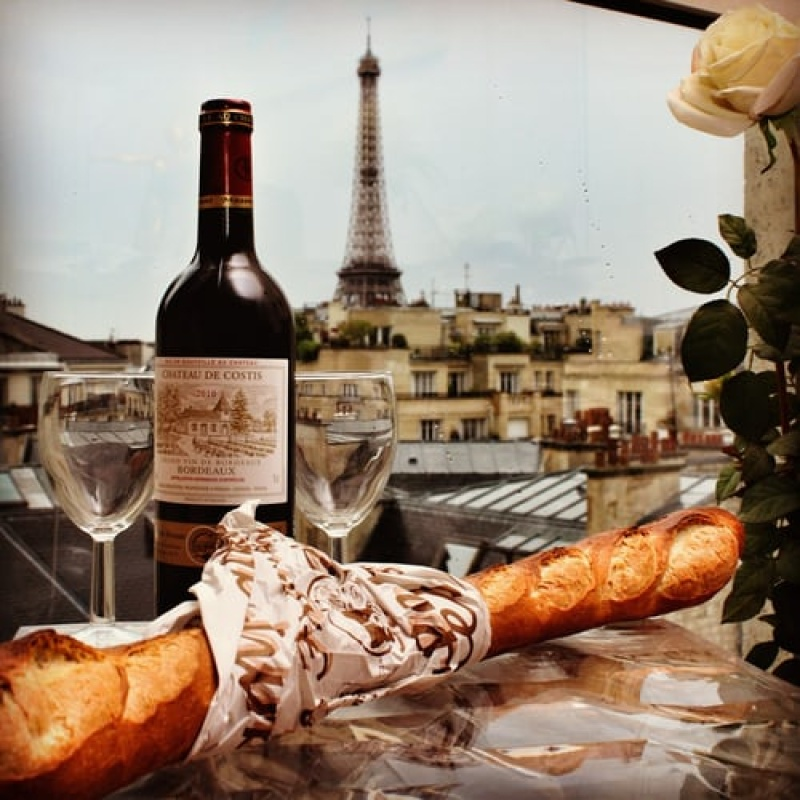wine: (147, 97, 306, 610)
